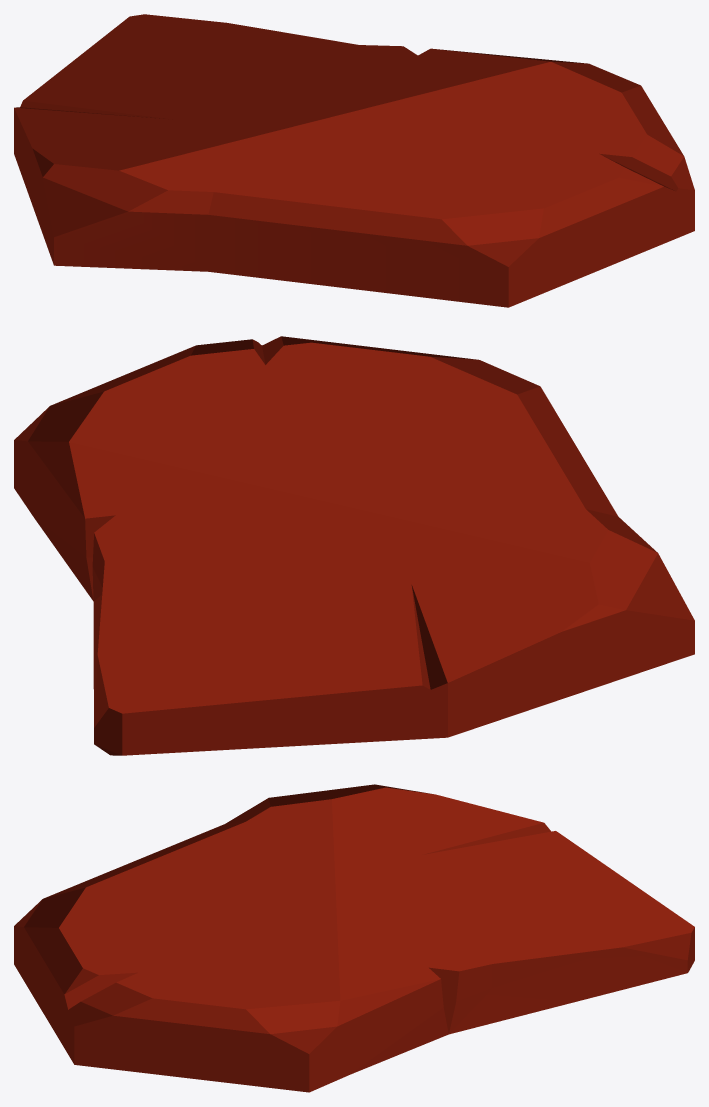
The model's file is SM_Flat_Rock_01.fbx.
3 renders of one model, top to bottom at view 1: azimuth 30°, elevation 25°; view 2: azimuth 150°, elevation 25°; view 3: azimuth 270°, elevation 25°, orthographic. The views are drawn at different scales.
Parts seen in each view (by area): view 1: SM_Flat_Rock_01; view 2: SM_Flat_Rock_01; view 3: SM_Flat_Rock_01.
Part boxes in pixels (x1,y1,x2,y2): SM_Flat_Rock_01: (14,14,694,307); SM_Flat_Rock_01: (14,336,694,755); SM_Flat_Rock_01: (14,784,694,1092).
Bounding box in the file's own units: 353 × 47 × 383.
